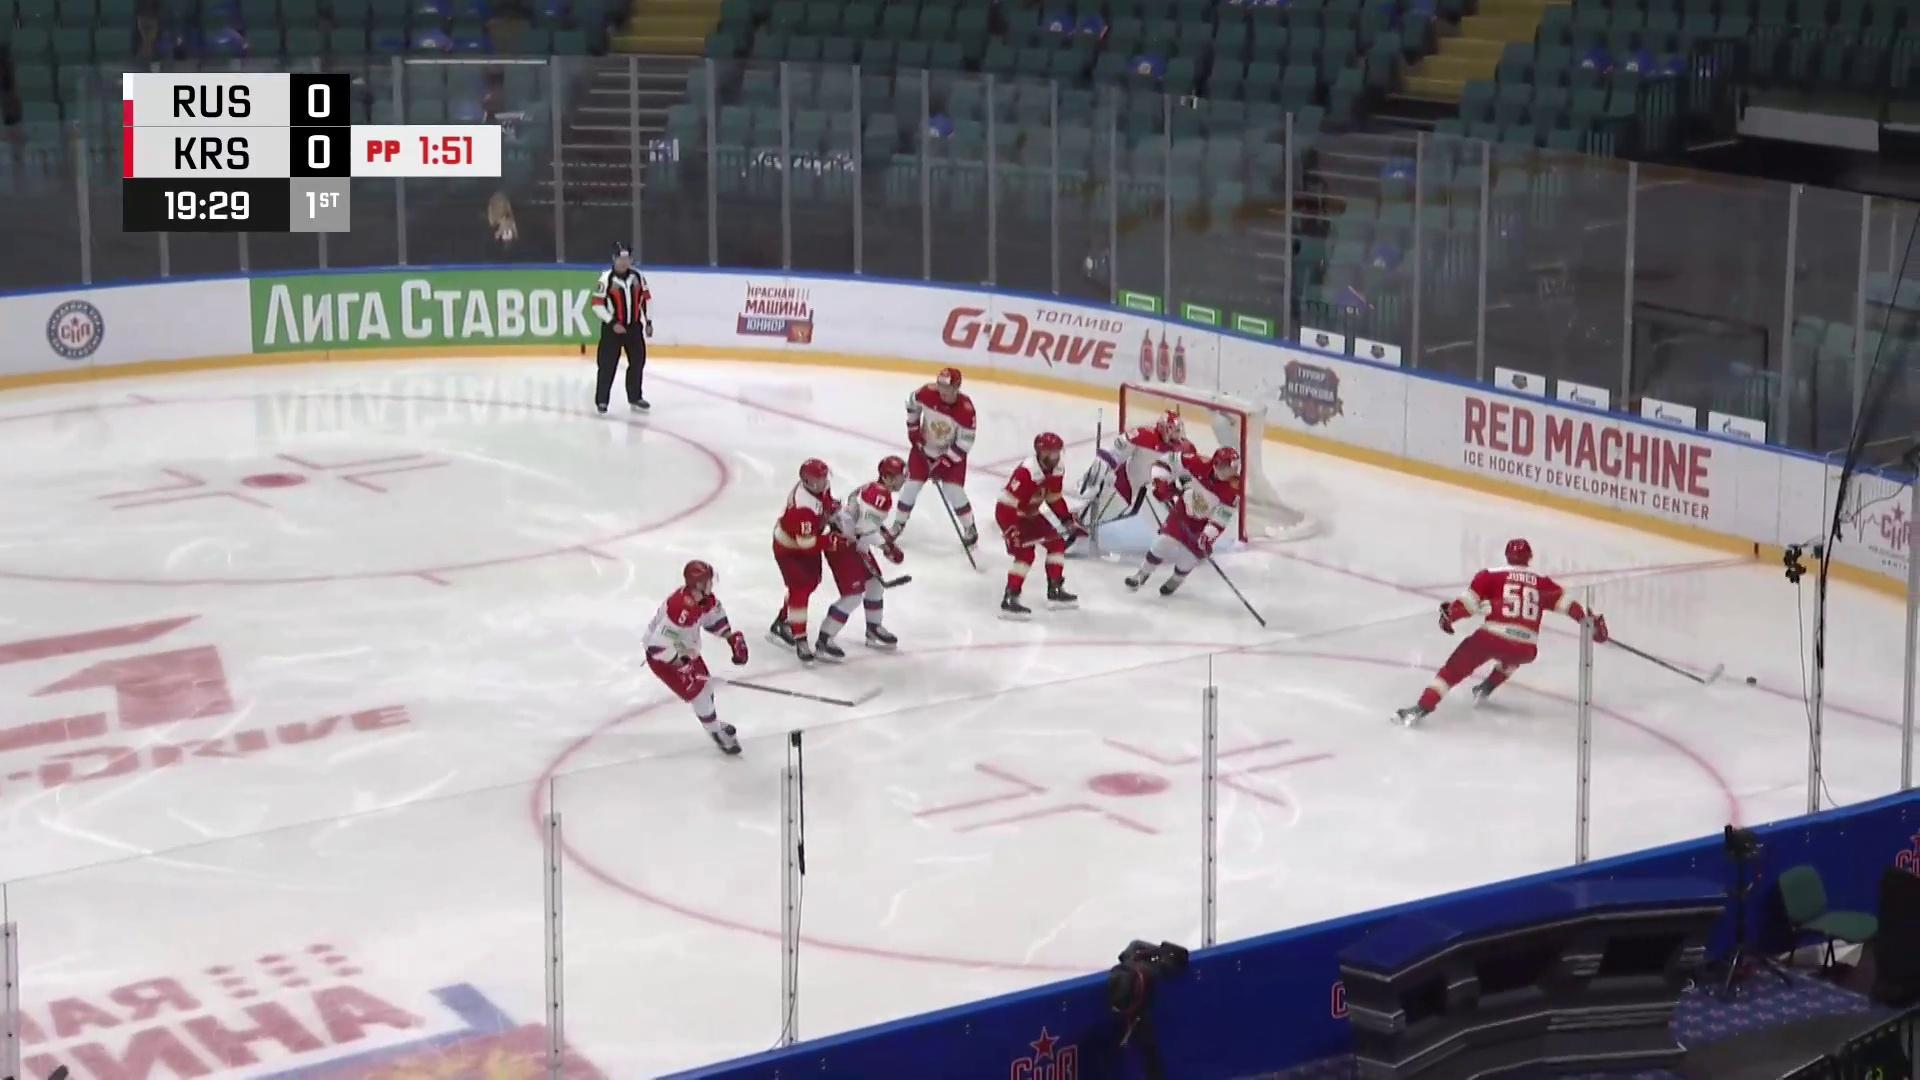ball: (1745, 675, 1759, 687)
